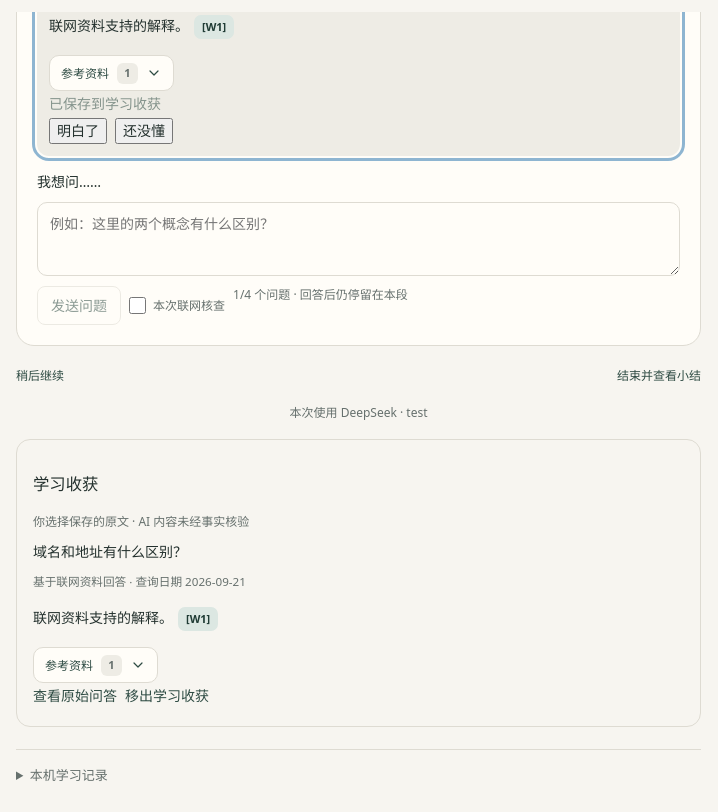
Test: restores source titles in both study history and saved learning highlights
The image size is (718, 812).
(page scrolled)
Click the button named "查看来源 W1" at (198, 619), box [178, 607, 218, 631]
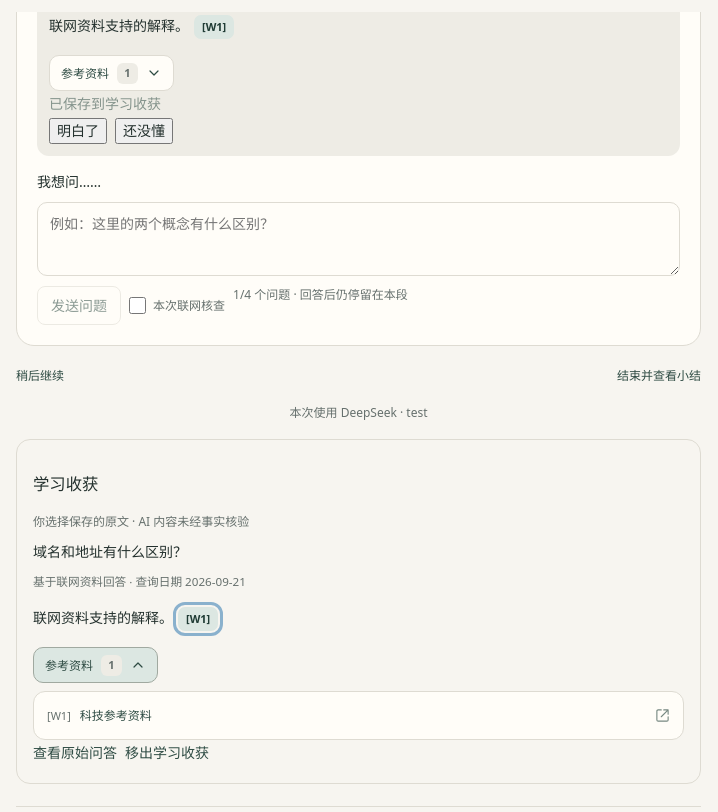
Now the link "[W1] 科技参考资料" is shown, box [47, 707, 670, 724]
